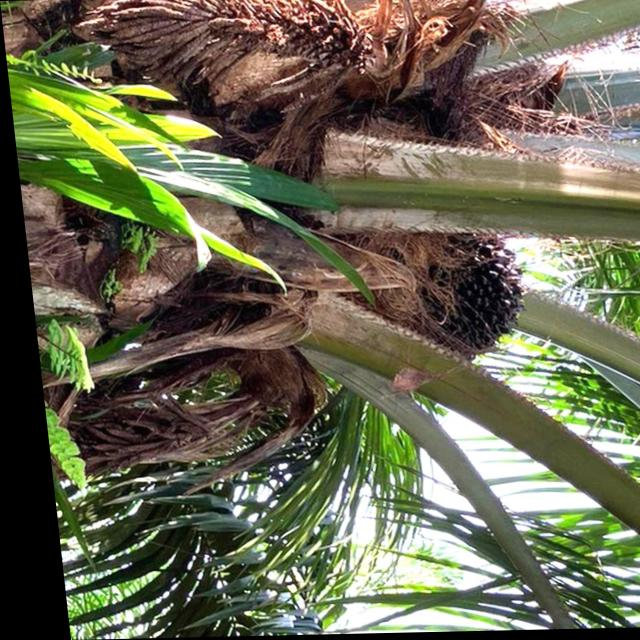unripe: (359, 214, 541, 369)
